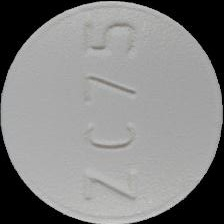61919-572: (0, 0, 224, 224)
